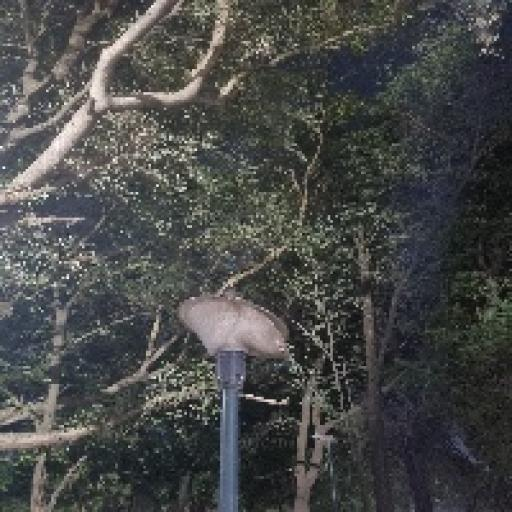Not Working: (169, 271, 299, 382)
